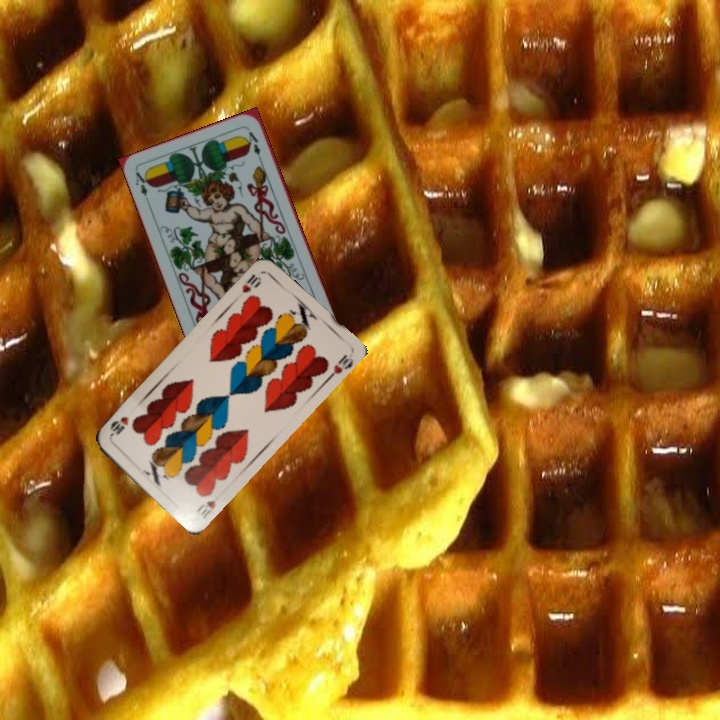EA: (131, 168, 152, 207)
H10: (238, 270, 264, 296), (192, 496, 218, 521)
